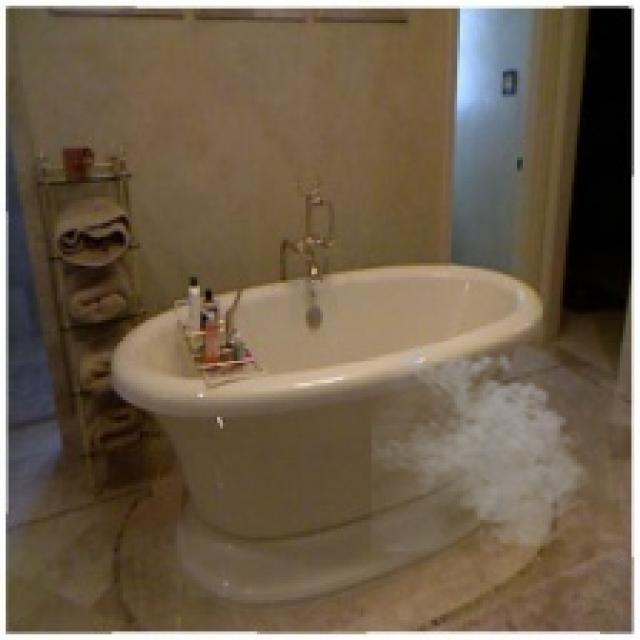smoke: (372, 340, 597, 554)
